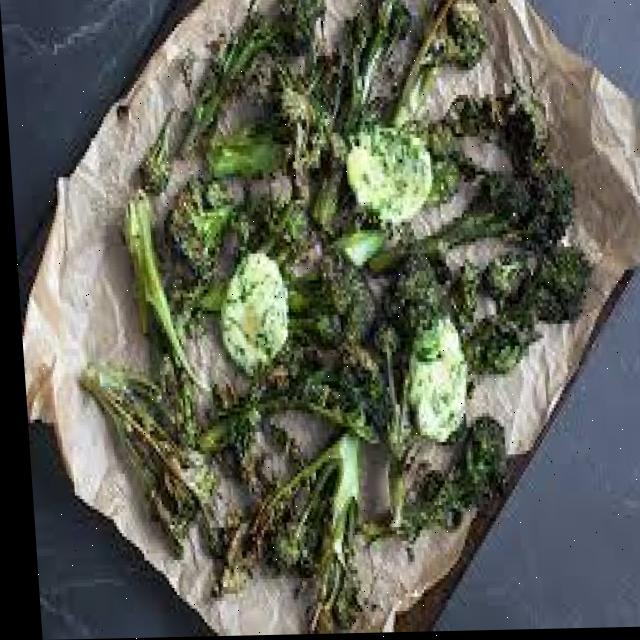Wet: (41, 0, 612, 639), (333, 123, 455, 227), (208, 255, 295, 378)
